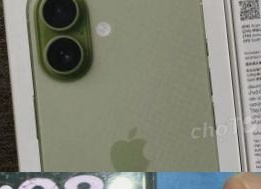physical_damage: (44, 172, 106, 189), (0, 172, 45, 185), (0, 182, 49, 189)
